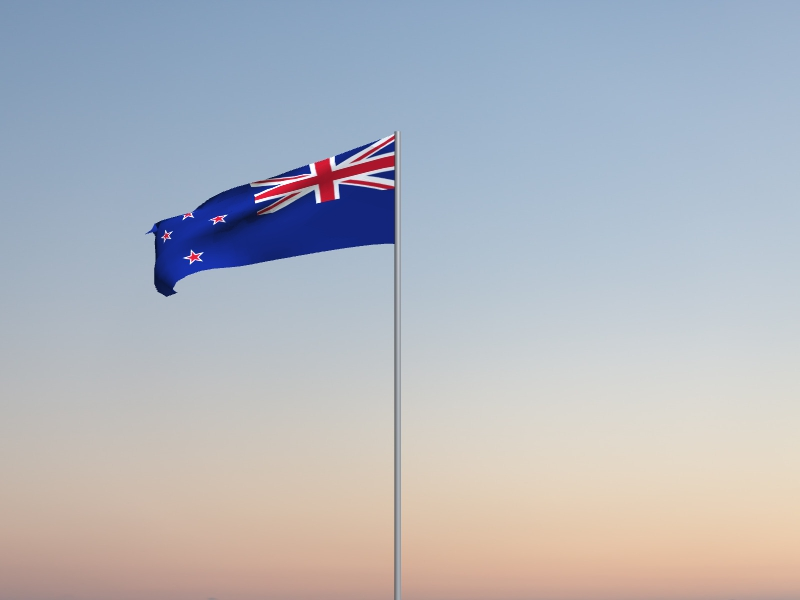nz: (145, 134, 395, 298)
